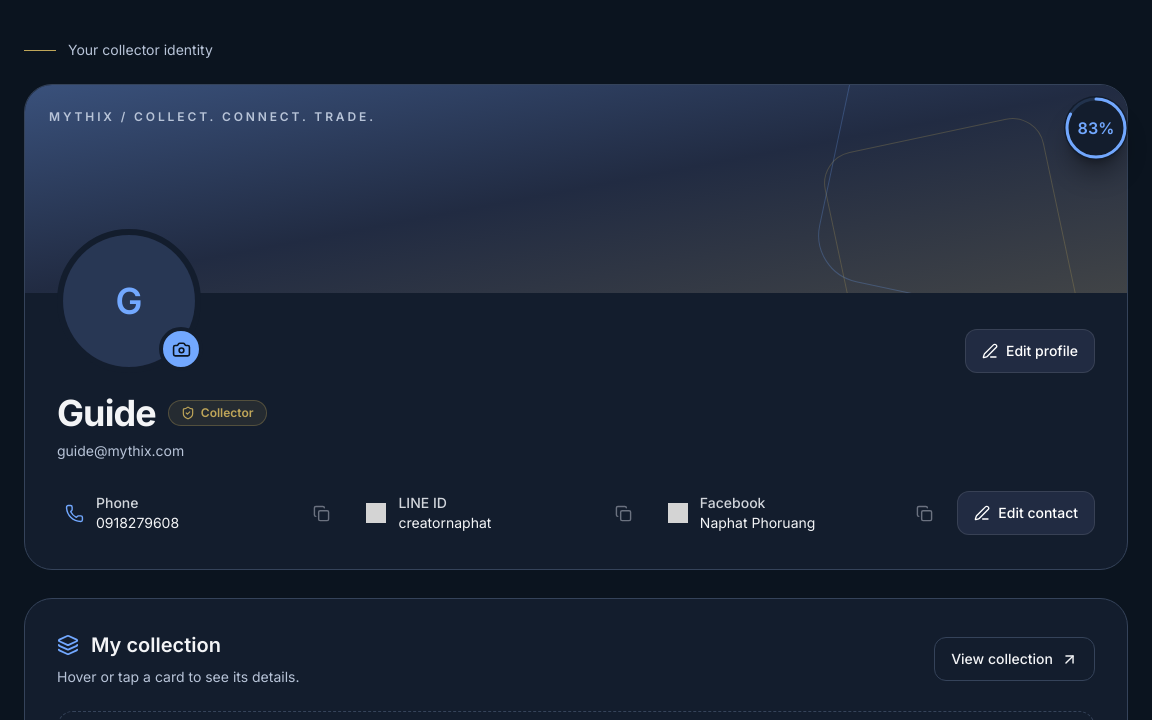
Test: ProfilePage editors › shows the missing photo prompt for a partially complete profile
Click the button named "Toggle profile completion details" at [1096, 128], box [1064,96,1128,160]
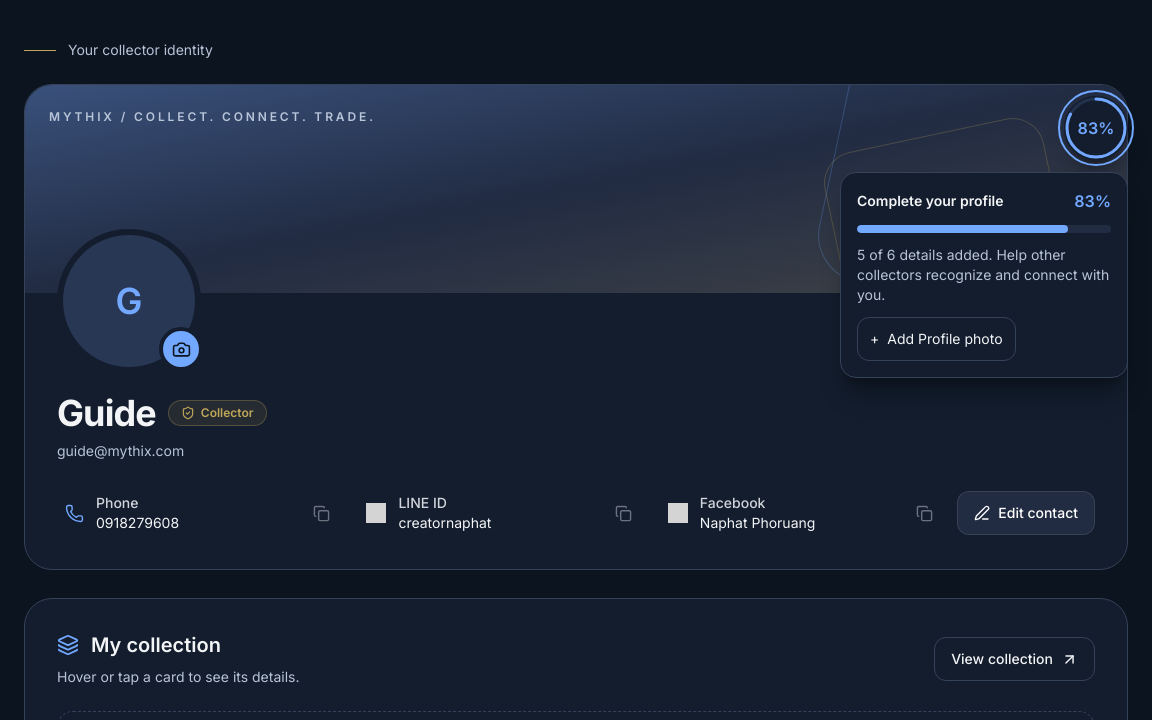
Now the button "+ Add Profile photo" is shown, box [857,317,1016,361]
